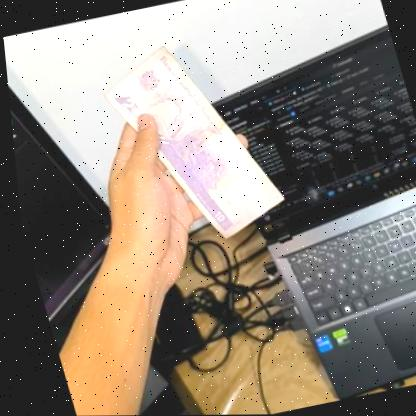ten-back-vef: (89, 30, 290, 255)
